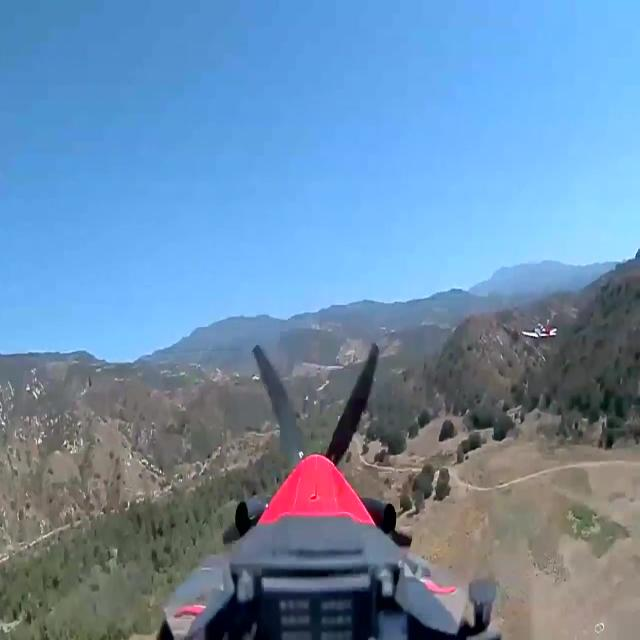iha: (522, 309, 560, 338)
